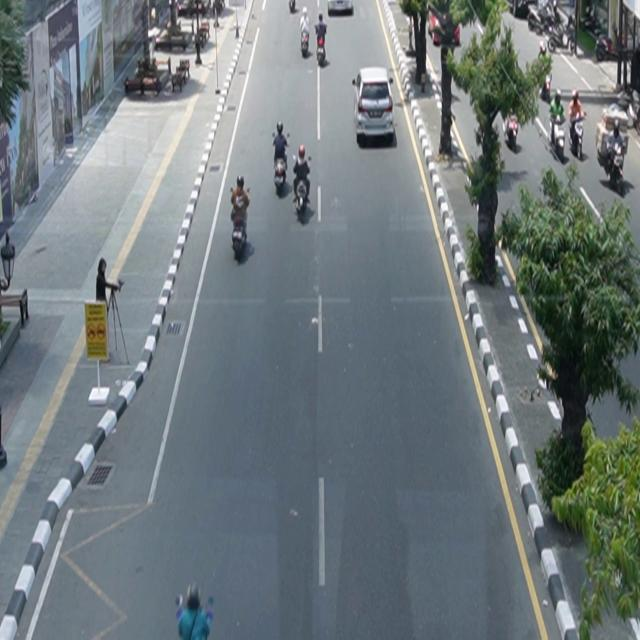car: (353, 67, 395, 145)
